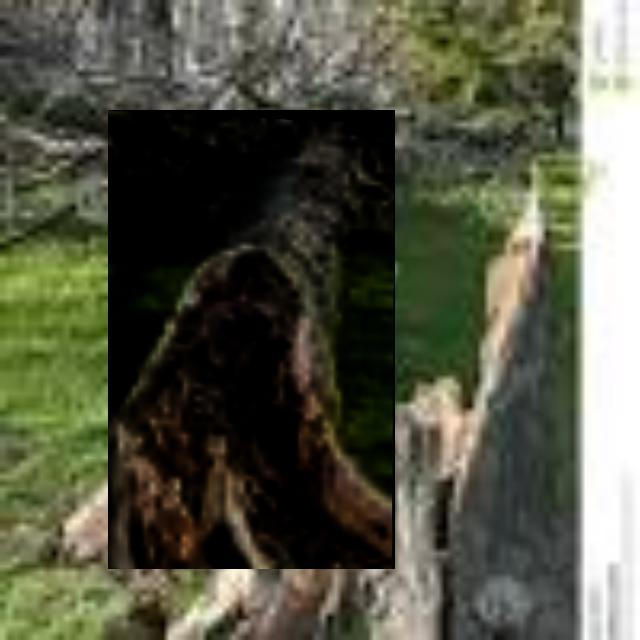fallen_tree: (108, 110, 396, 570)
